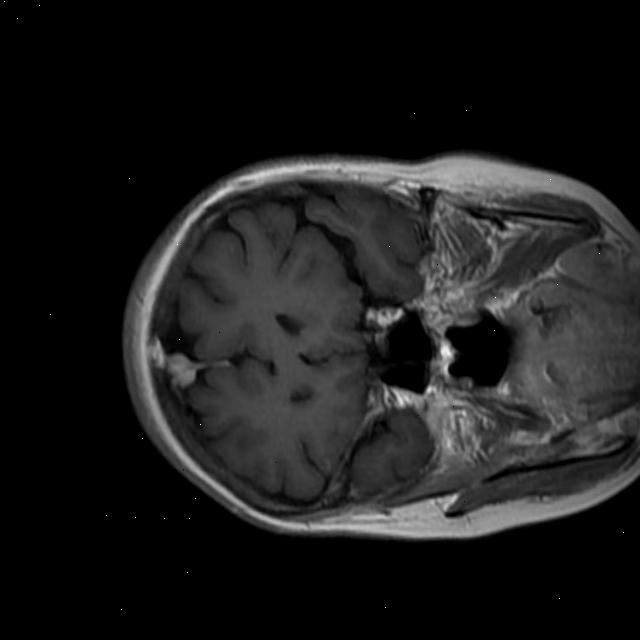Meningioma: (158, 348, 211, 386)
